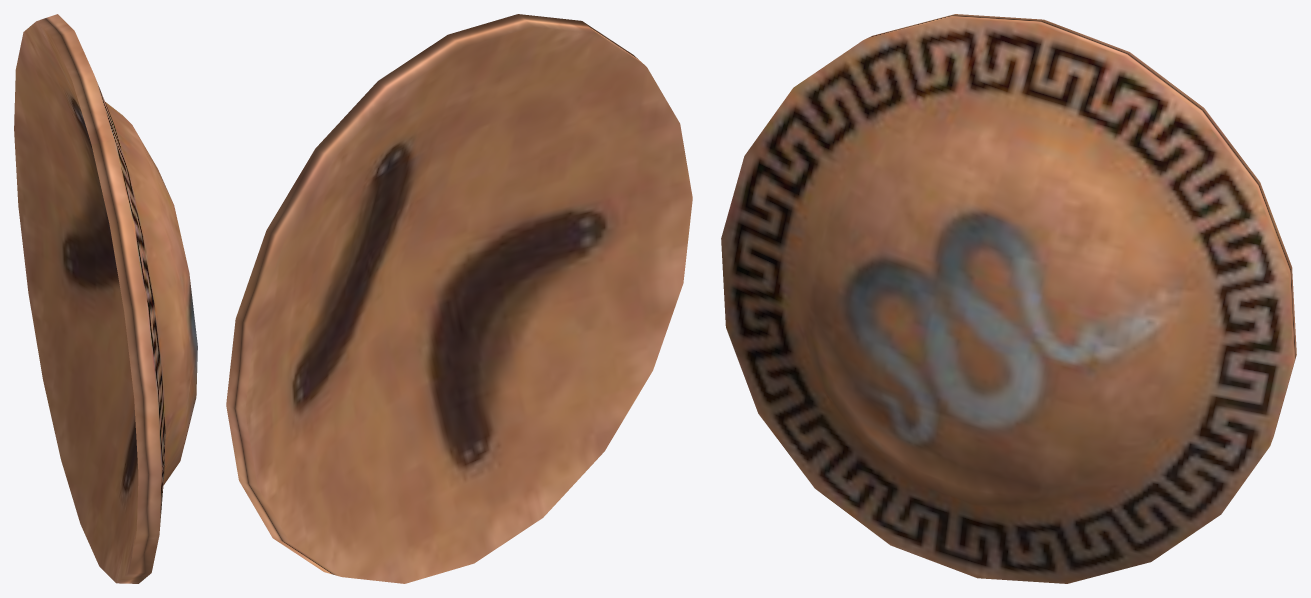
Rendered from rider-shield-slice-ironshields.glb.
3 views of the same model, side by side, from view 1: azimuth 30°, elevation 25°; view 2: azimuth 150°, elevation 25°; view 3: azimuth 270°, elevation 25° (orthographic). The views are drawn at different scales.
Bounding box in the file's own units: 0.2116 × 0.5555 × 0.5319.
Materials: 1 (1 with a texture image).
